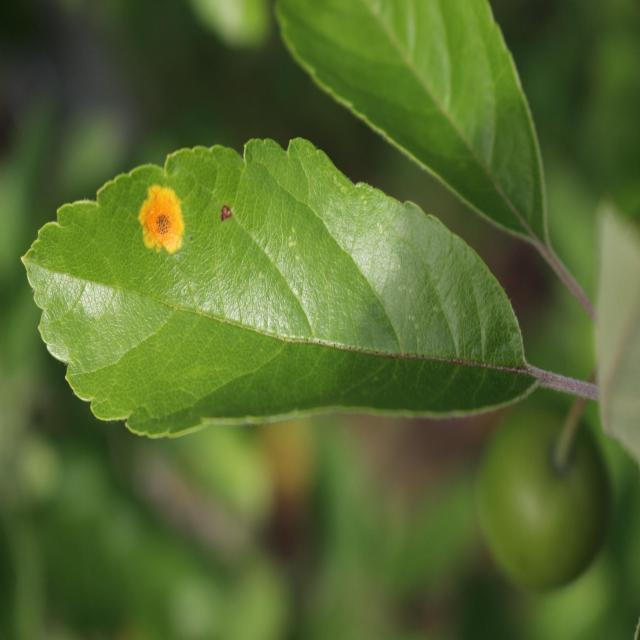Rust: (138, 180, 191, 259), (217, 199, 236, 231)
